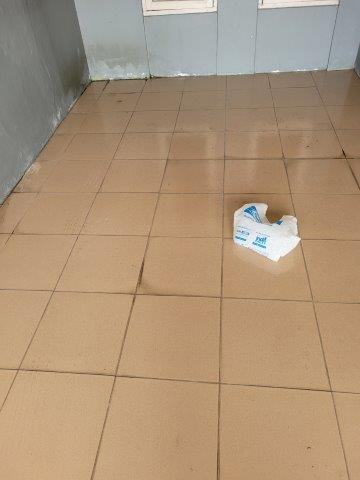plastik: (231, 201, 301, 258)
